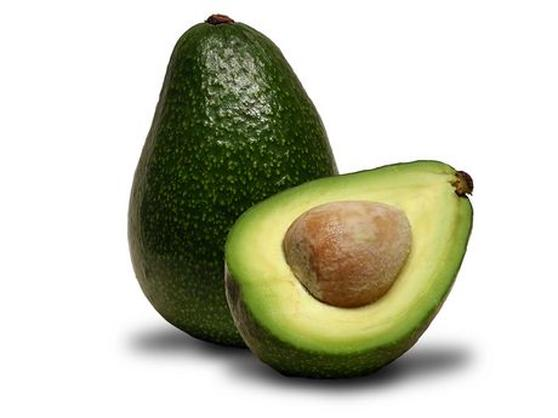avocado: (127, 11, 343, 369)
